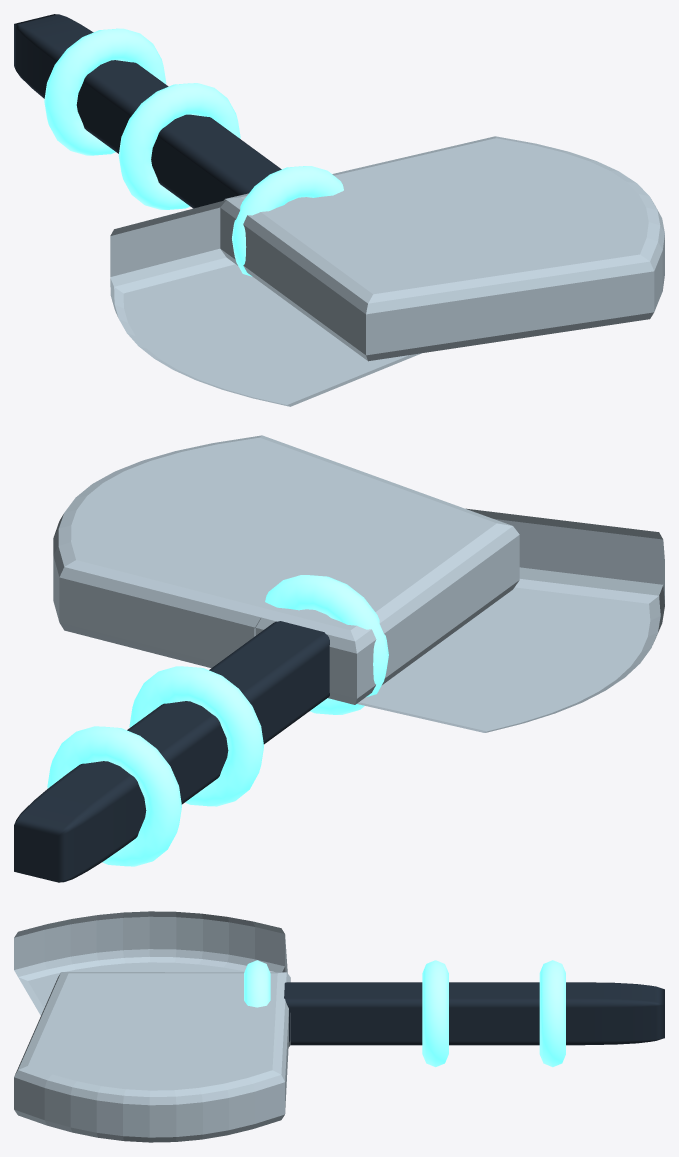
Rendered from axe-4.glb.
3 renders of one model, top to bottom at view 1: azimuth 30°, elevation 25°; view 2: azimuth 150°, elevation 25°; view 3: azimuth 270°, elevation 25°, orthographic. The views are drawn at different scales.
Size of the model in its own units: 0.9276 by 0.2247 by 1.35.
